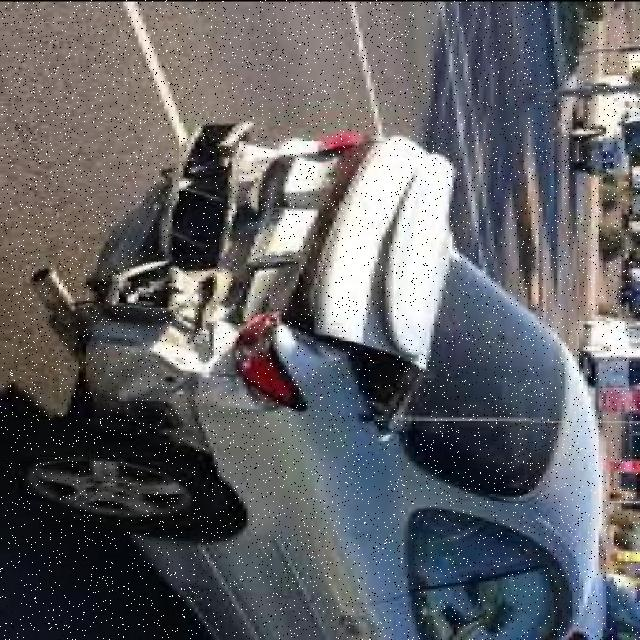damage: (65, 118, 463, 437)
